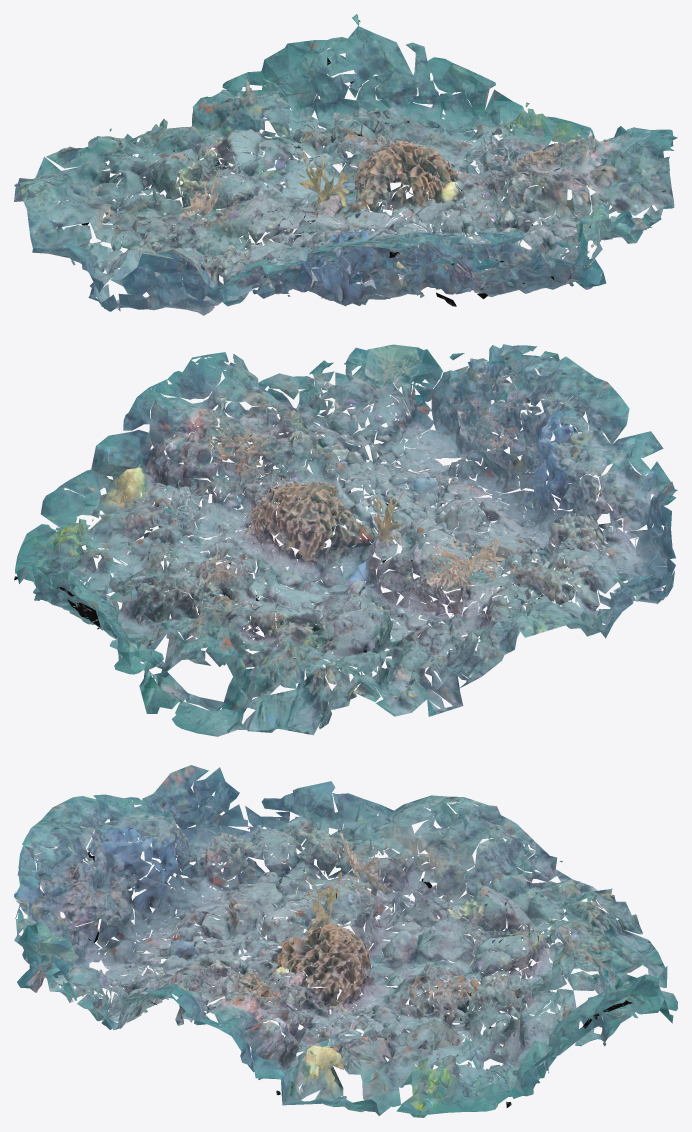
Rendered from reef_longledges.glb.
3 views of the same model, one above another, from view 1: azimuth 30°, elevation 25°; view 2: azimuth 150°, elevation 25°; view 3: azimuth 270°, elevation 25° (orthographic).
Visible parts, largest first — view 1: Model; view 2: Model; view 3: Model.
Part boxes in pixels (<box>): Model: <box>14,14,677,315</box>; Model: <box>14,344,677,736</box>; Model: <box>14,765,677,1117</box>.
Bounding box in the file's own units: 10.22 × 2.57 × 10.14.
Materials: 1 (1 with a texture image).
